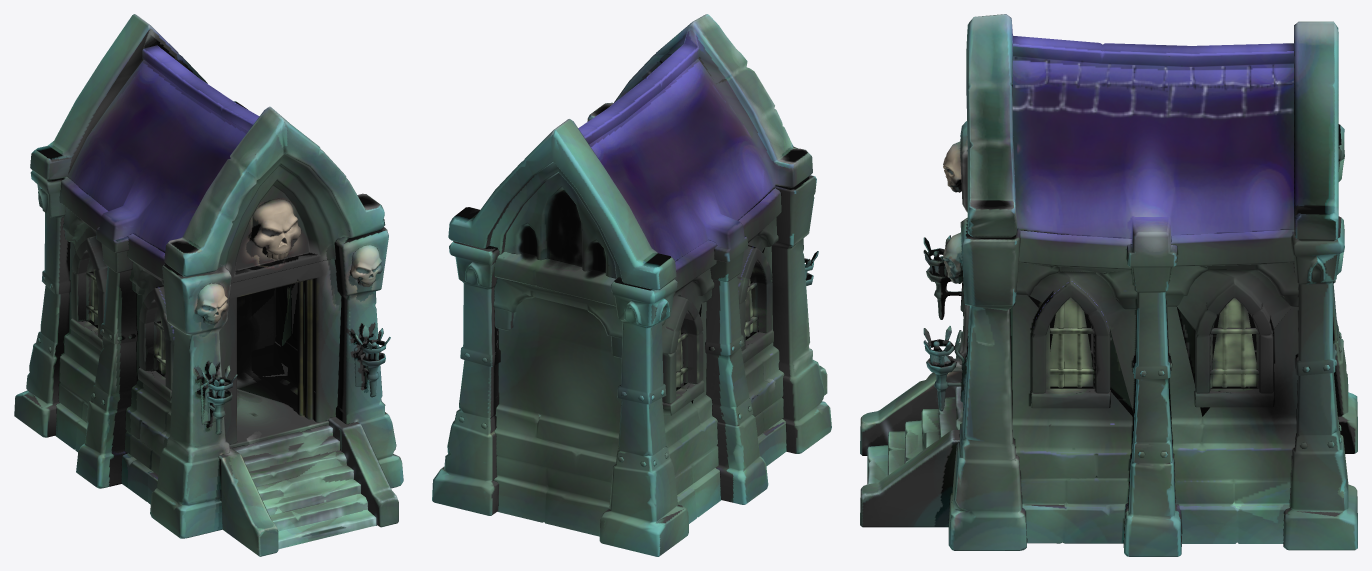
File: entrance_dungeon_necropolis.glb
3 renders of one model, left to right at view 1: azimuth 30°, elevation 25°; view 2: azimuth 150°, elevation 25°; view 3: azimuth 270°, elevation 25°, orthographic. The views are drawn at different scales.
Visible parts, largest first — view 1: gothic+doorway+3d+model; view 2: gothic+doorway+3d+model; view 3: gothic+doorway+3d+model.
Boxes of the visible parts, bbox=[...] form: gothic+doorway+3d+model: bbox=[14, 14, 403, 556]; gothic+doorway+3d+model: bbox=[432, 14, 831, 556]; gothic+doorway+3d+model: bbox=[860, 14, 1357, 556].
Size of the model in its own units: 0.6536 by 0.9956 by 0.9507.
Materials: 1 (1 with a texture image).
